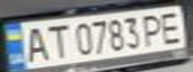0: (69, 19, 93, 56)
3: (121, 14, 145, 50)
7: (90, 17, 109, 54)
8: (106, 16, 127, 52)
A: (18, 24, 51, 63)
E: (157, 8, 190, 45)
P: (139, 11, 169, 47)
T: (42, 21, 72, 60)
